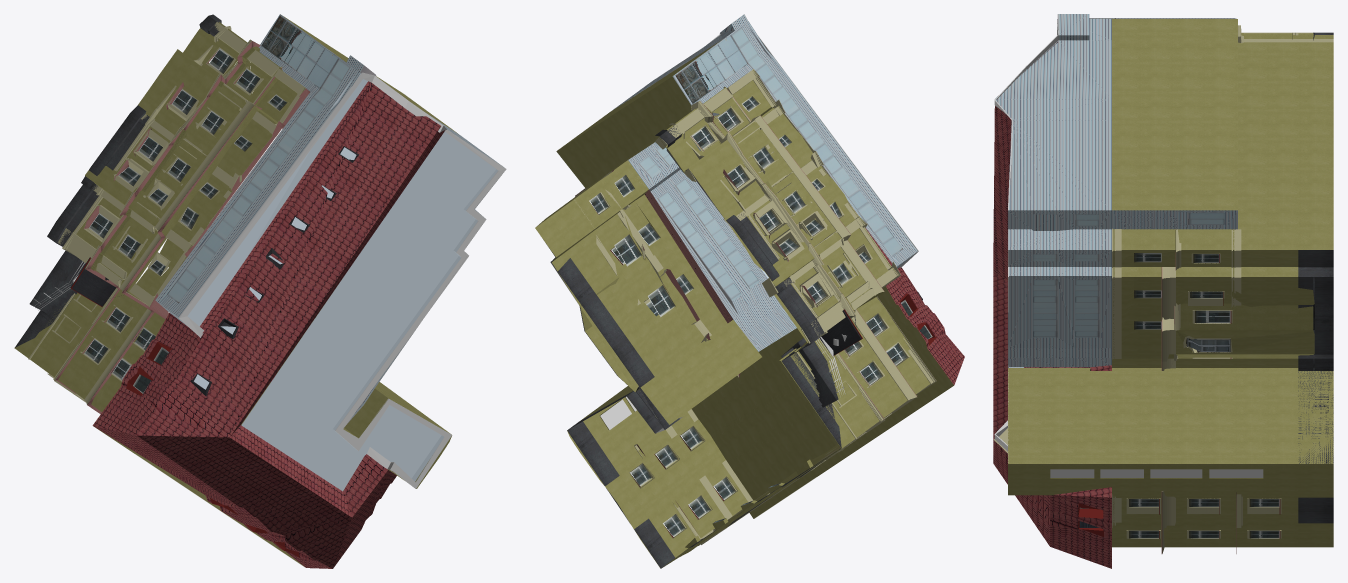
The model's file is Parnu11-origo.obj.
The picture shows the model from 3 angles, left to right: view 1: azimuth 30°, elevation 25°; view 2: azimuth 150°, elevation 25°; view 3: azimuth 270°, elevation 25°; orthographic projection. The views are drawn at different scales.
Parts seen in each view (by area): view 1: Plane009; view 2: Plane009; view 3: Plane009.
Part boxes in pixels (bbox=[...]): Plane009: bbox=[14, 14, 506, 568]; Plane009: bbox=[535, 14, 964, 568]; Plane009: bbox=[993, 14, 1333, 568].
Bounding box in the file's own units: 29.69 × 39.5 × 21.26.
